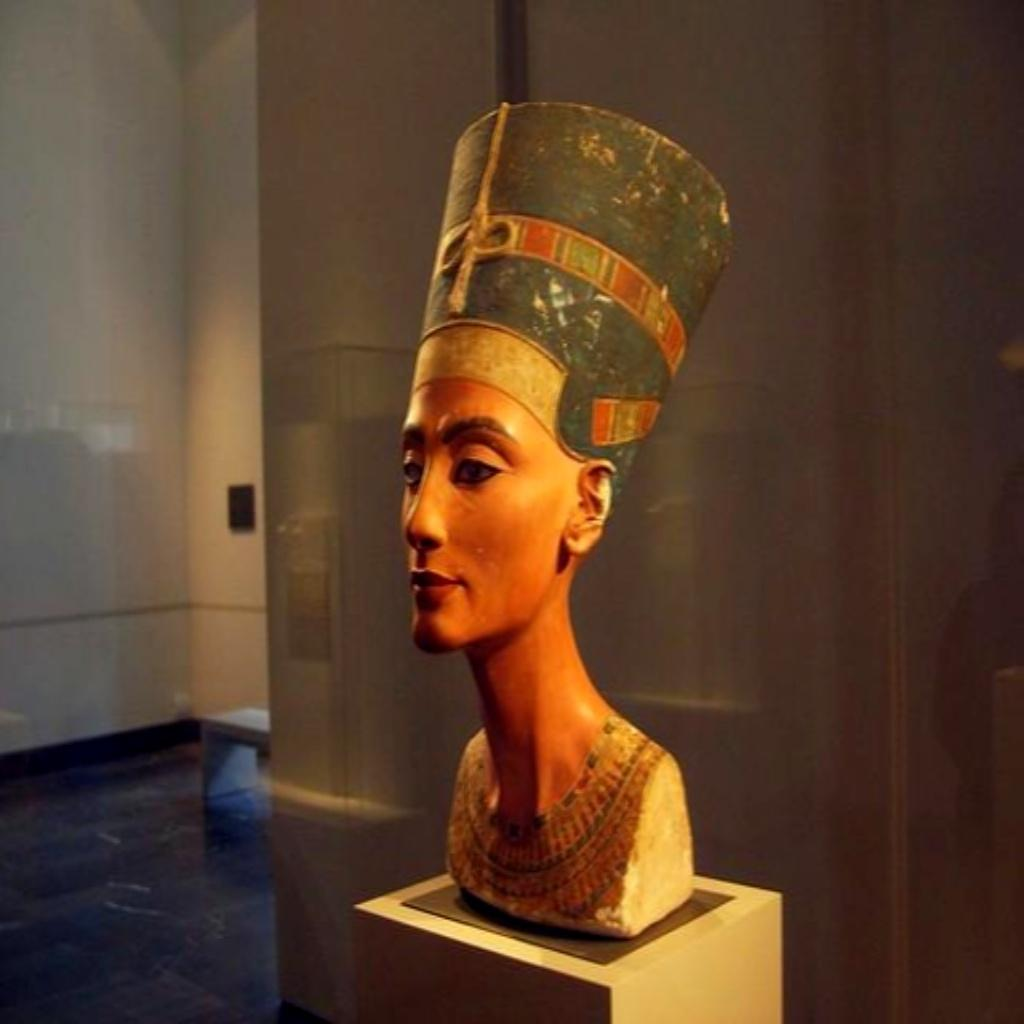Nefertiti: (396, 94, 738, 939)
